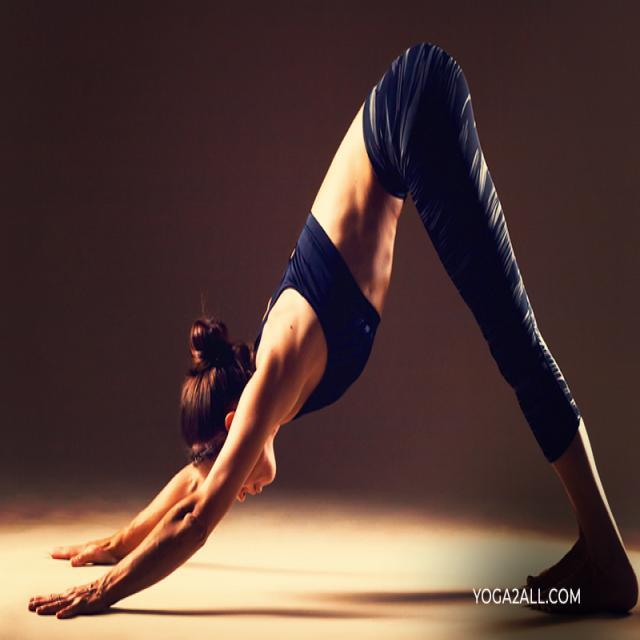Downward-Facing_Dog: (25, 38, 640, 625)
